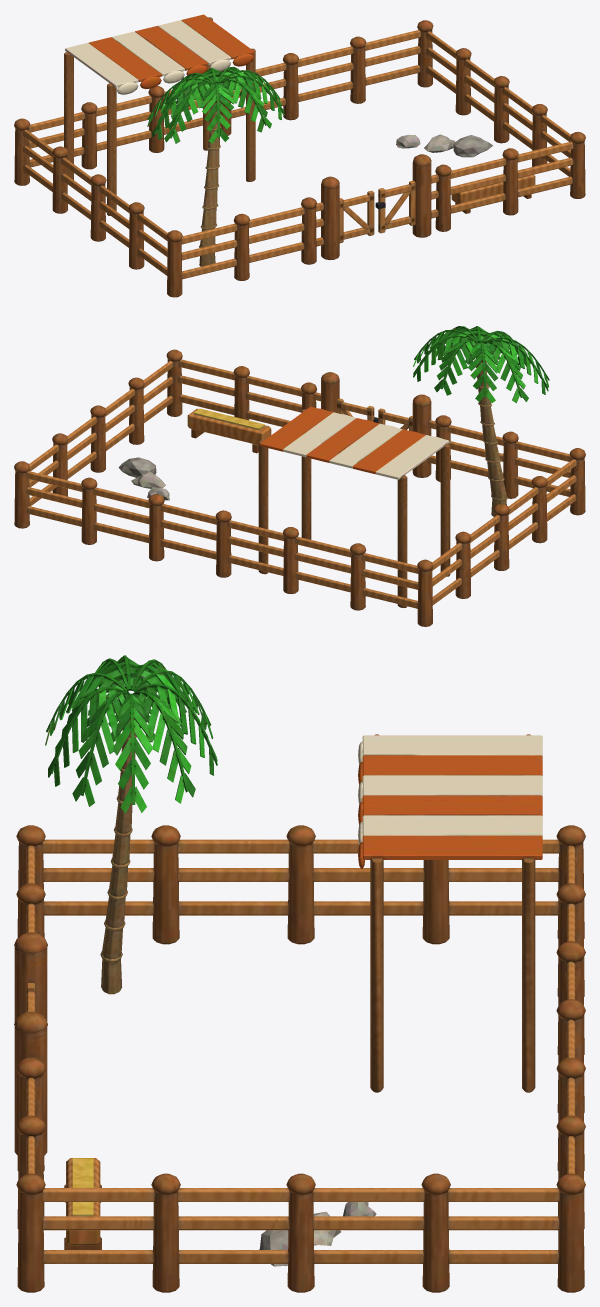
The model's file is camel_corral.glb.
3 renders of one model, top to bottom at view 1: azimuth 30°, elevation 25°; view 2: azimuth 150°, elevation 25°; view 3: azimuth 270°, elevation 25°, orthographic. The views are drawn at different scales.
Parts seen in each view (by area): view 1: camel_corral, gate1, gate0; view 2: camel_corral, gate1, gate0; view 3: camel_corral.
Part boxes in pixels (x1,y1,x2,y2): camel_corral: (14, 14, 585, 297); gate1: (375, 180, 415, 233); gate0: (339, 190, 374, 243); camel_corral: (14, 326, 585, 626); gate1: (337, 398, 378, 422); gate0: (378, 408, 412, 431); camel_corral: (14, 655, 585, 1292).
Bounding box in the file's own units: 3 × 1.24 × 2.01.
Materials: 1 (1 with a texture image).
